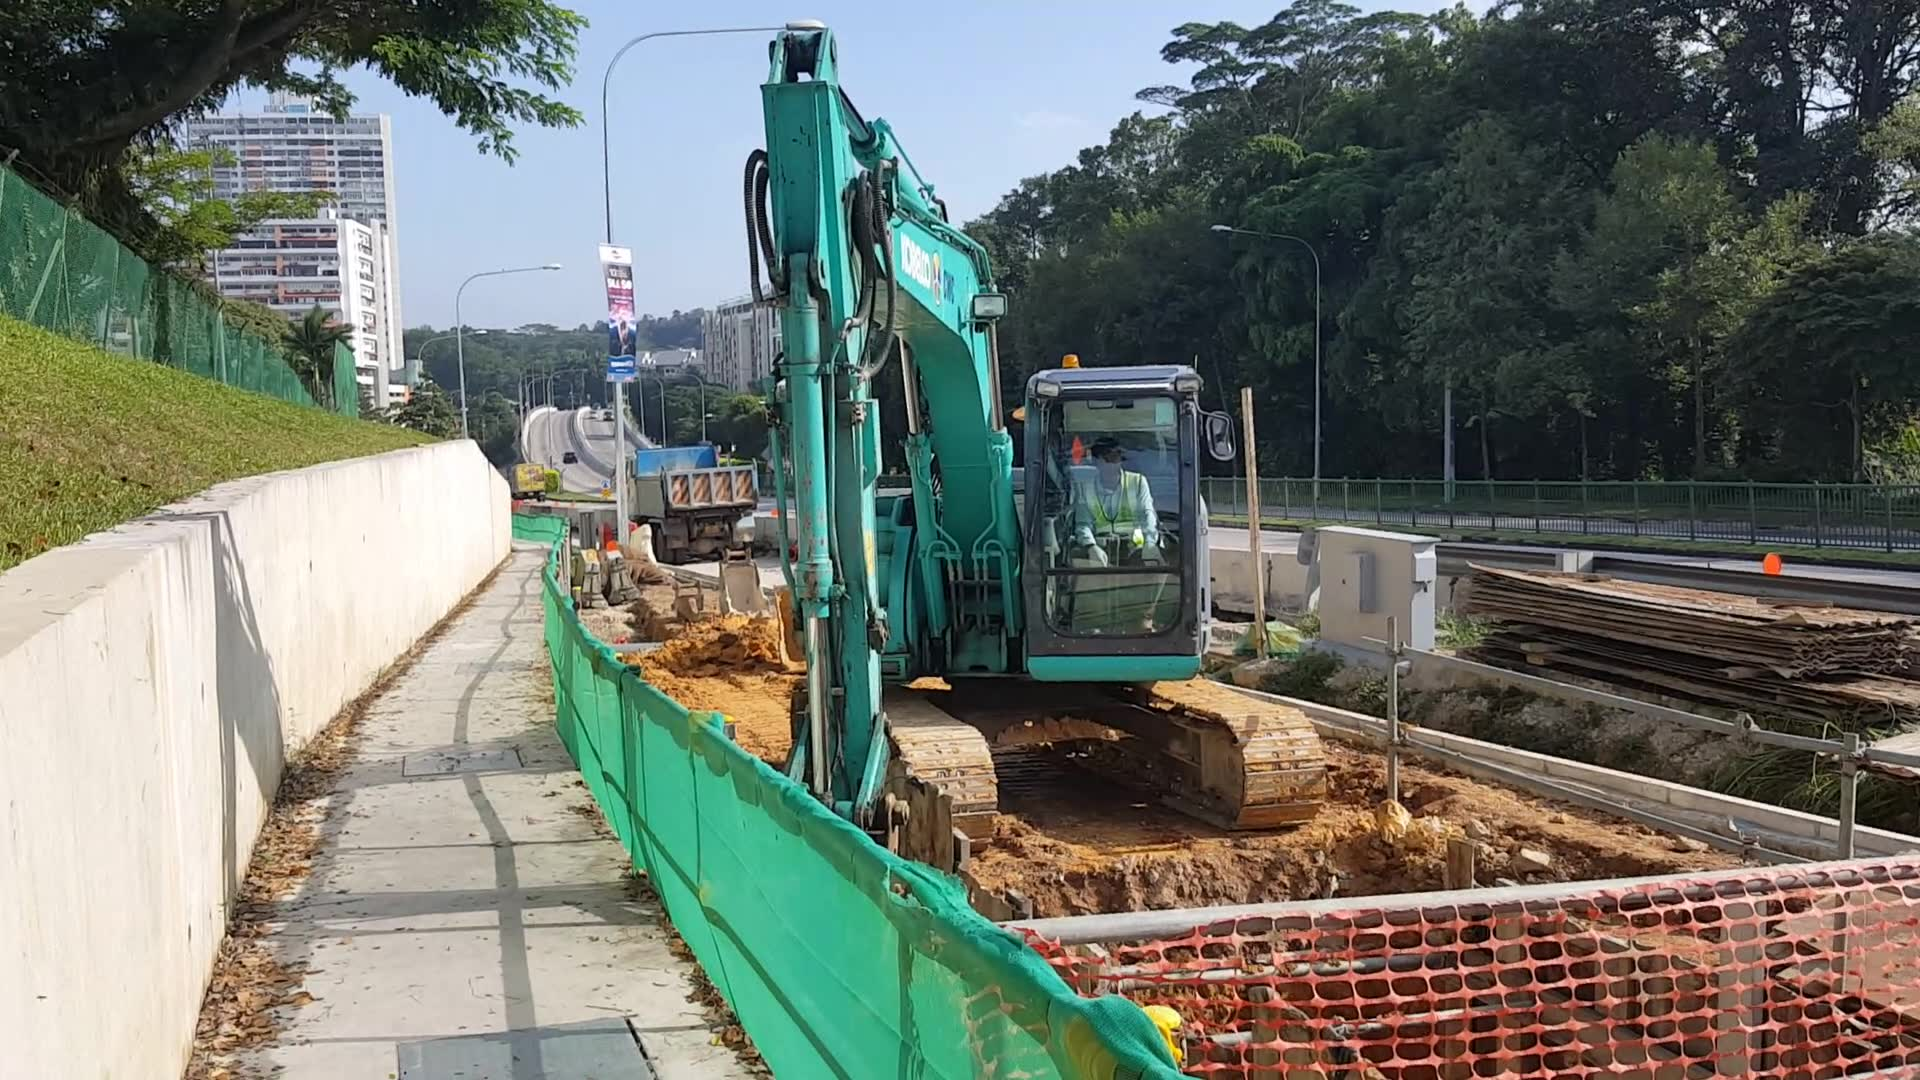cabin: (880, 368, 1216, 684)
forearm: (754, 22, 885, 808)
upperarm: (862, 200, 1021, 642)
wheelbase: (877, 684, 1323, 825)
